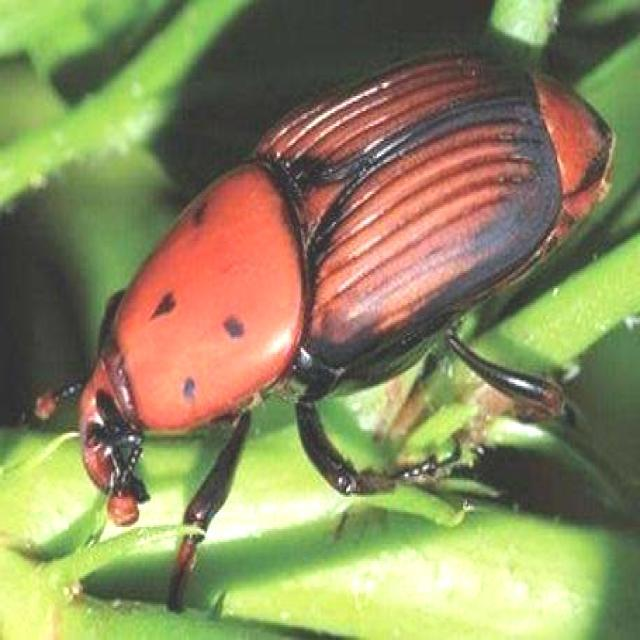Red-palm-weevil: (31, 46, 615, 526)
